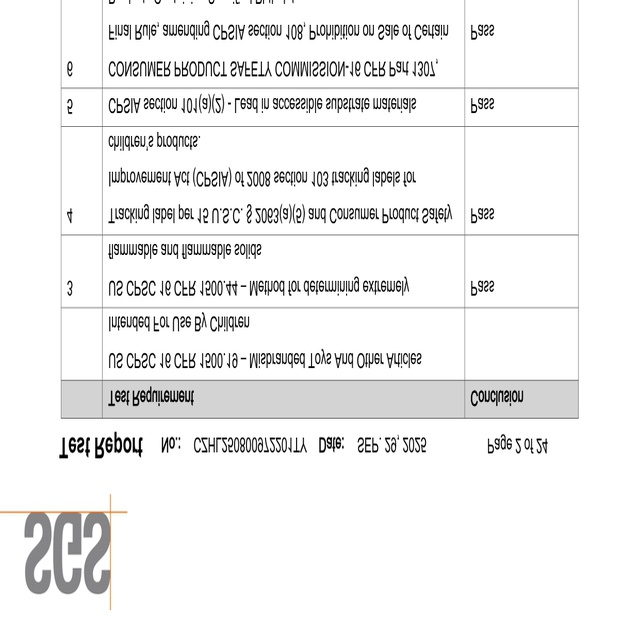sgs: (22, 512, 112, 594)
